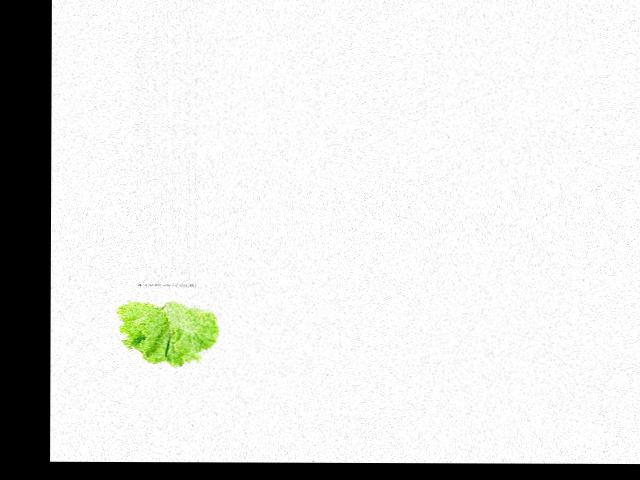lettuce: (116, 288, 221, 368)
